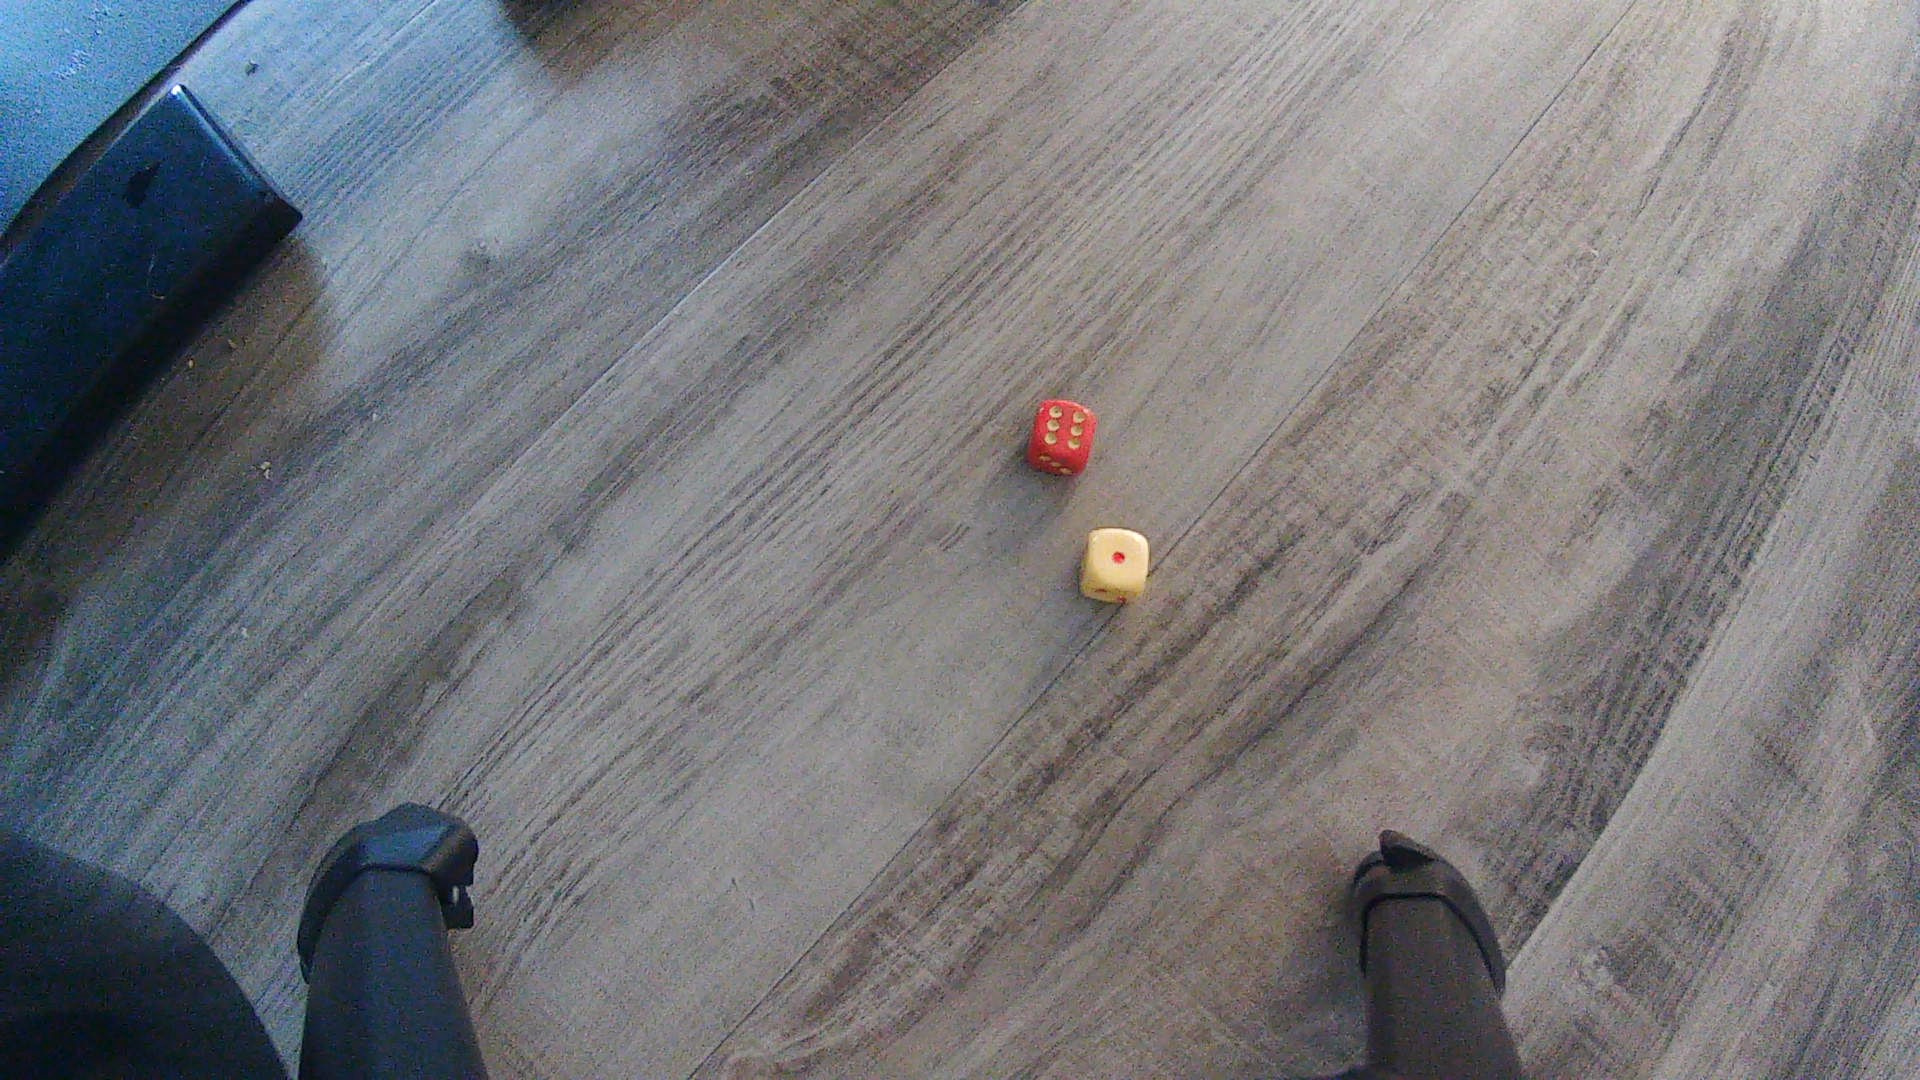die: (1077, 525, 1153, 607), (1025, 398, 1098, 479)
